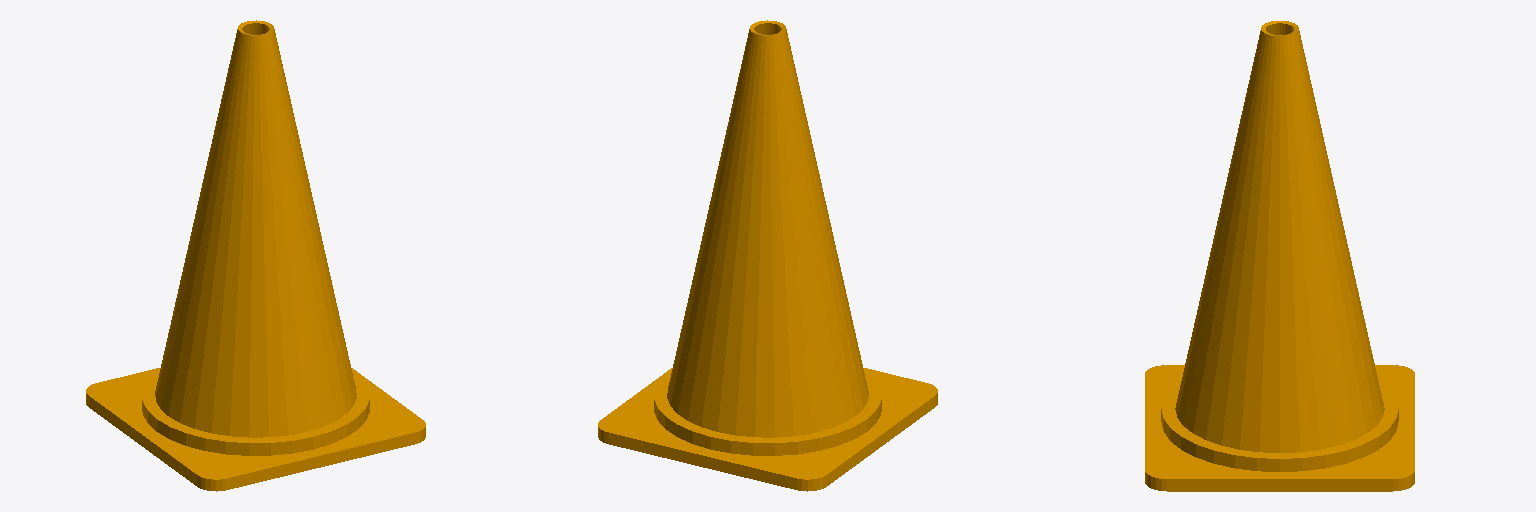
URDF robot description (orange_striped_cone):
<?xml version="1.0" encoding="UTF-8"?>
<robot name="orange_striped_cone">
  <joint name="joint_root-root_Camera_Camera" type="fixed">
    <origin xyz="7.3588915 -6.925791 4.958309 " rpy="1.109319 0. 0.8149282"/>
    <parent link="root"/>
    <child link="root_Camera_Camera"/>
  </joint>
  <link name="root">
    <visual>
      <origin xyz="0. 0. 0." rpy="0. 0. 0."/>
      <geometry>
        <mesh filename="meshes/Cube_001.obj" scale="1. 1. 1."/>
      </geometry>
    </visual>
    <visual>
      <origin xyz="0. 0. 0.01" rpy="0. 0. 0."/>
      <geometry>
        <mesh filename="meshes/root_Cylinder_Cylinder.obj" scale="1. 1. 1."/>
      </geometry>
    </visual>
    <visual>
      <origin xyz="0. 0. 0.24" rpy="0. 0. 0."/>
      <geometry>
        <mesh filename="meshes/Mesh.obj" scale="1. 1. 1."/>
      </geometry>
    </visual>
  </link>
  <link name="root_Camera_Camera"/>
</robot>

--- Facts derived from the render (not from the file) ---
Views: 3 orthographic renders of the robot side by side, from view 1: azimuth 30°, elevation 25°; view 2: azimuth 150°, elevation 25°; view 3: azimuth 270°, elevation 25°.
Model orange_striped_cone with 2 links and 1 joints (1 fixed), rooted at root, posed all joints at 0.
Visible links, largest first — view 1: root; view 2: root; view 3: root.
Link boxes in pixels (x1,y1,x2,y2): root: (86,20,425,491); root: (598,20,937,491); root: (1145,21,1414,491).
Size in the robot's own frame: 0.285 by 0.285 by 0.4721 metres.
3 mesh visuals loaded from 3 distinct referenced files (3 OBJ).